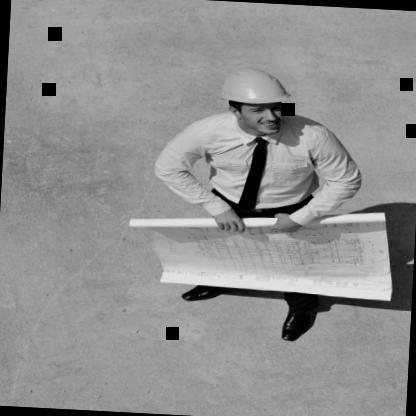helmet: (210, 60, 297, 142)
